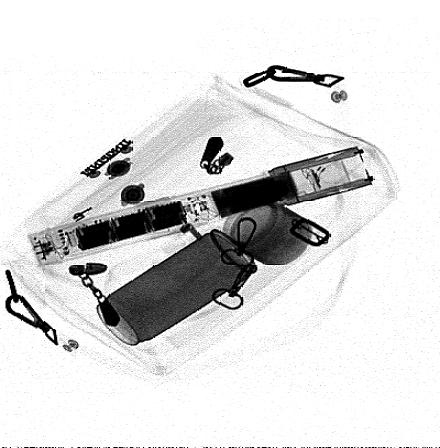Baton: (27, 143, 377, 267)
